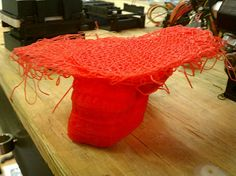fail: (8, 18, 236, 107)
